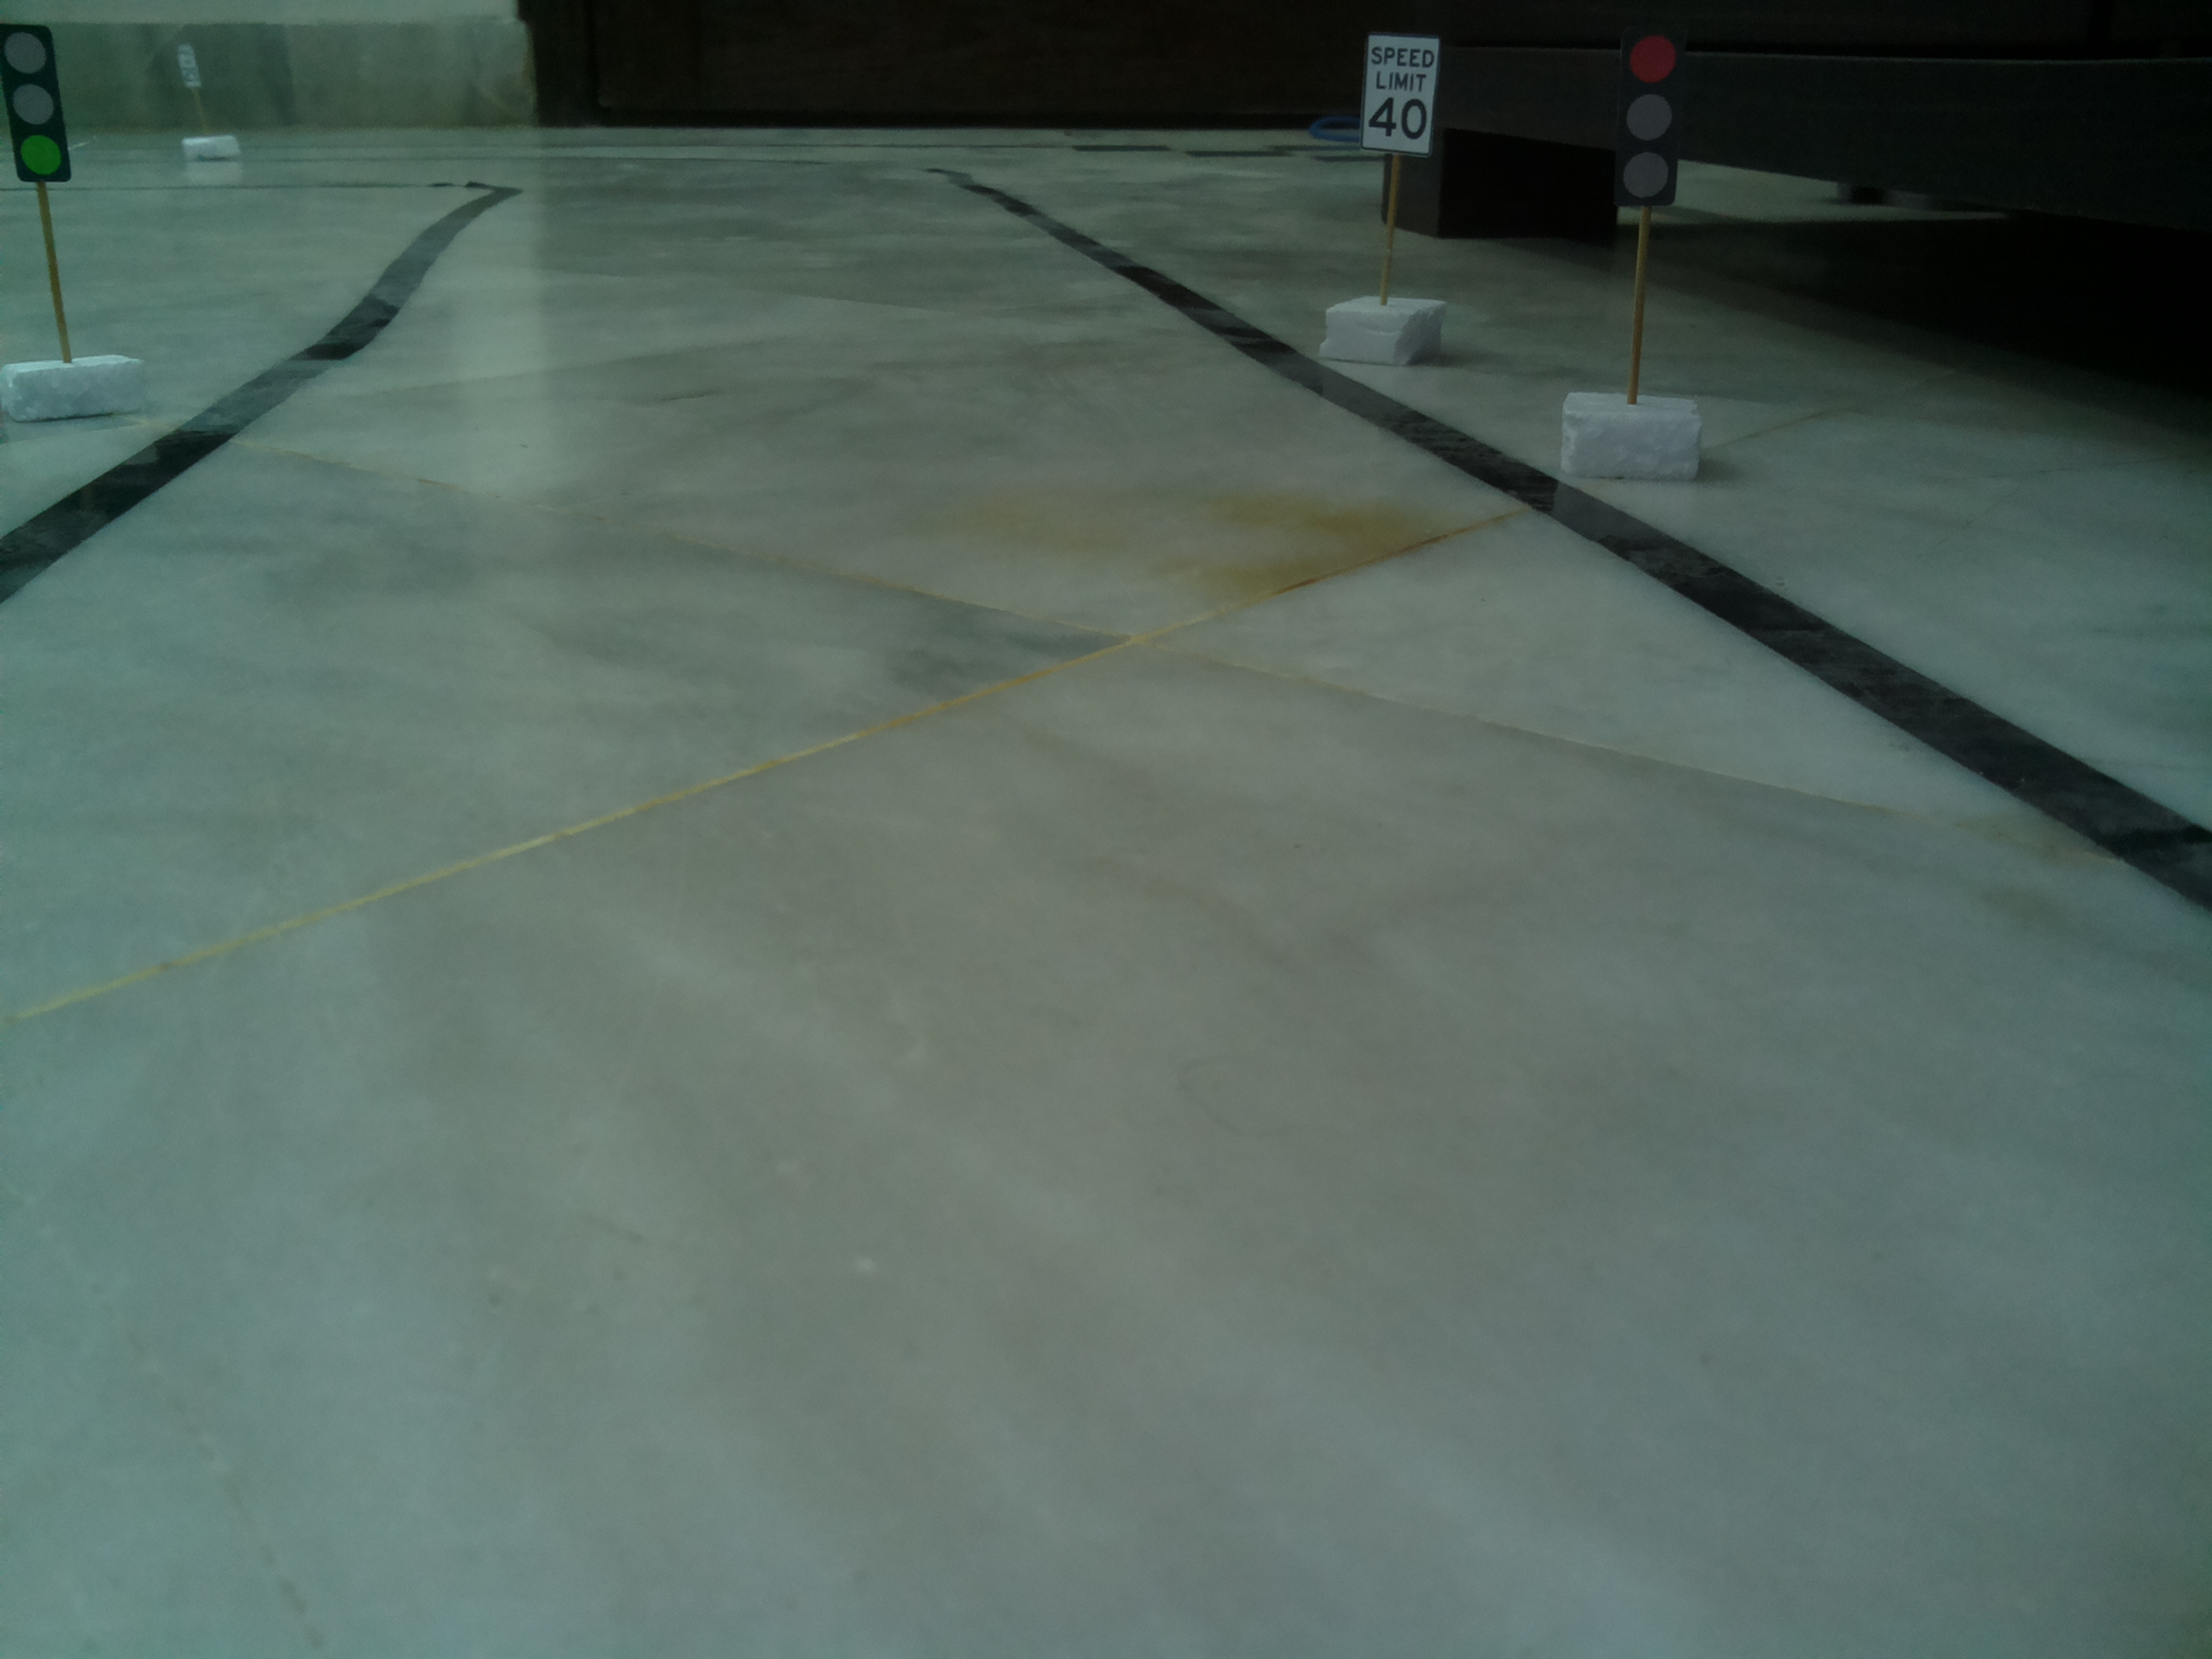Green traffic light: (3, 21, 78, 195)
Red traffic light: (1606, 16, 1688, 216)
Speed limit 40: (1360, 26, 1446, 169)
